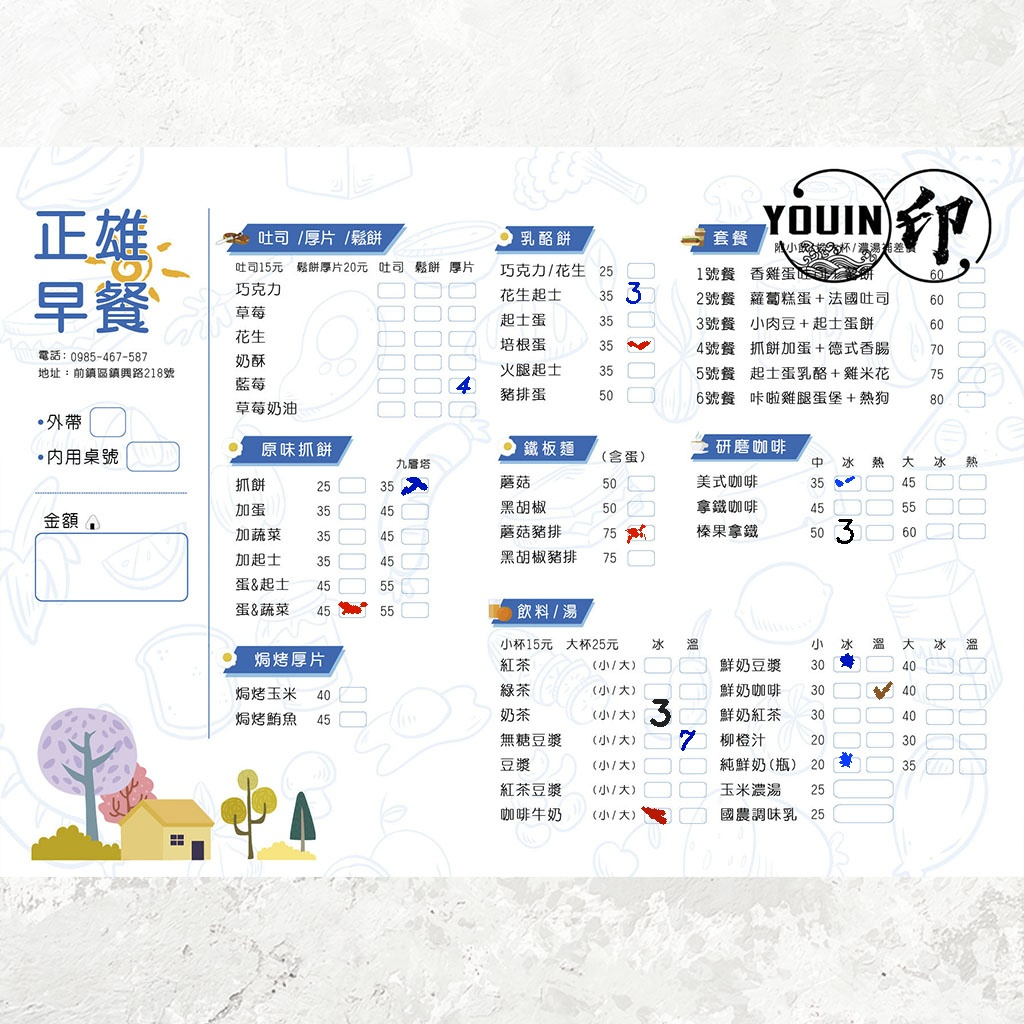marked_circle: (832, 755, 858, 769), (834, 657, 860, 671)
marked_number_3: (644, 707, 670, 721), (628, 288, 654, 302), (834, 524, 860, 538)
marked_number_4: (448, 378, 474, 392)
marked_number_7: (679, 732, 705, 746)
marked_tick: (833, 476, 859, 490), (627, 337, 653, 351), (869, 682, 895, 696)
marked_x: (625, 526, 651, 540), (401, 478, 427, 492), (644, 807, 670, 821), (338, 602, 364, 616)
